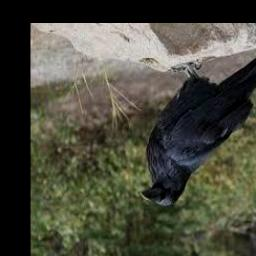Crow: (138, 41, 256, 207)
